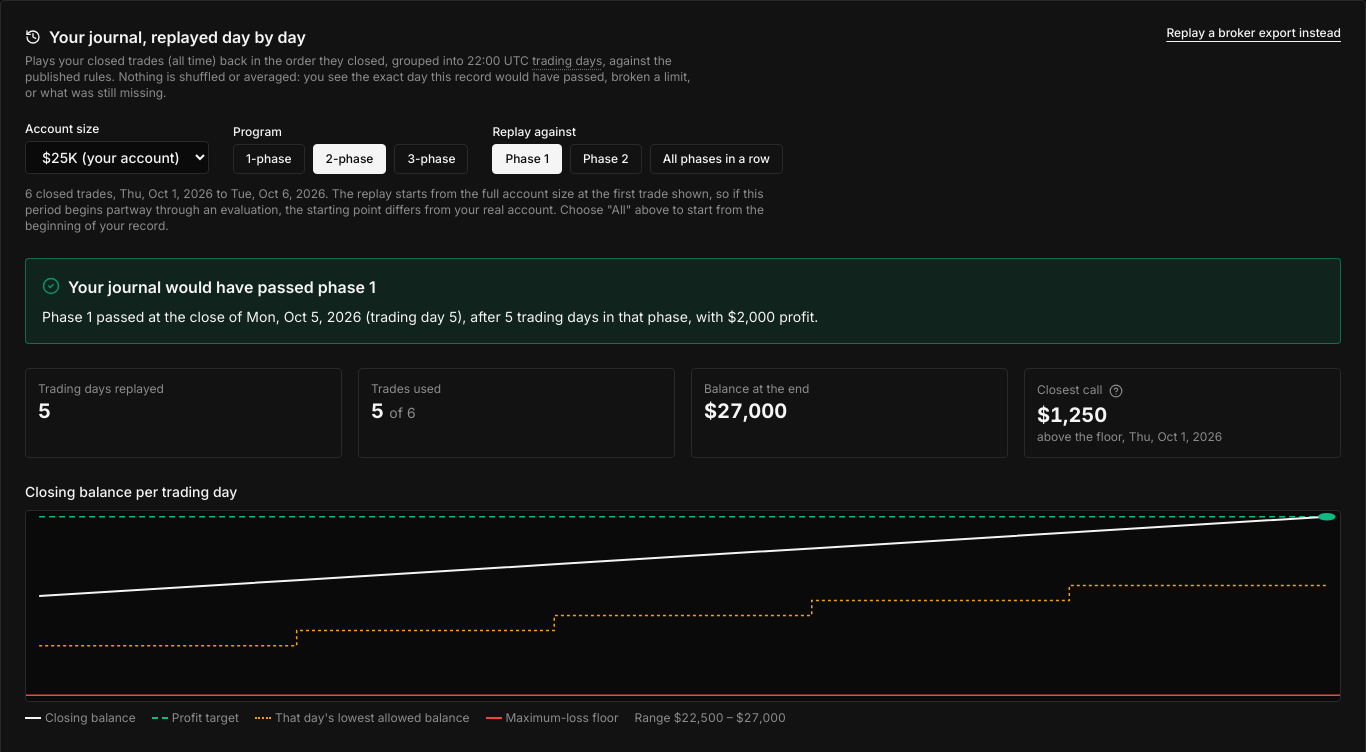
Scenario: JournalReplayCard › runs all phases in a row when asked
Click the button "All phases in a row" at (716, 159), box [650, 144, 783, 174]
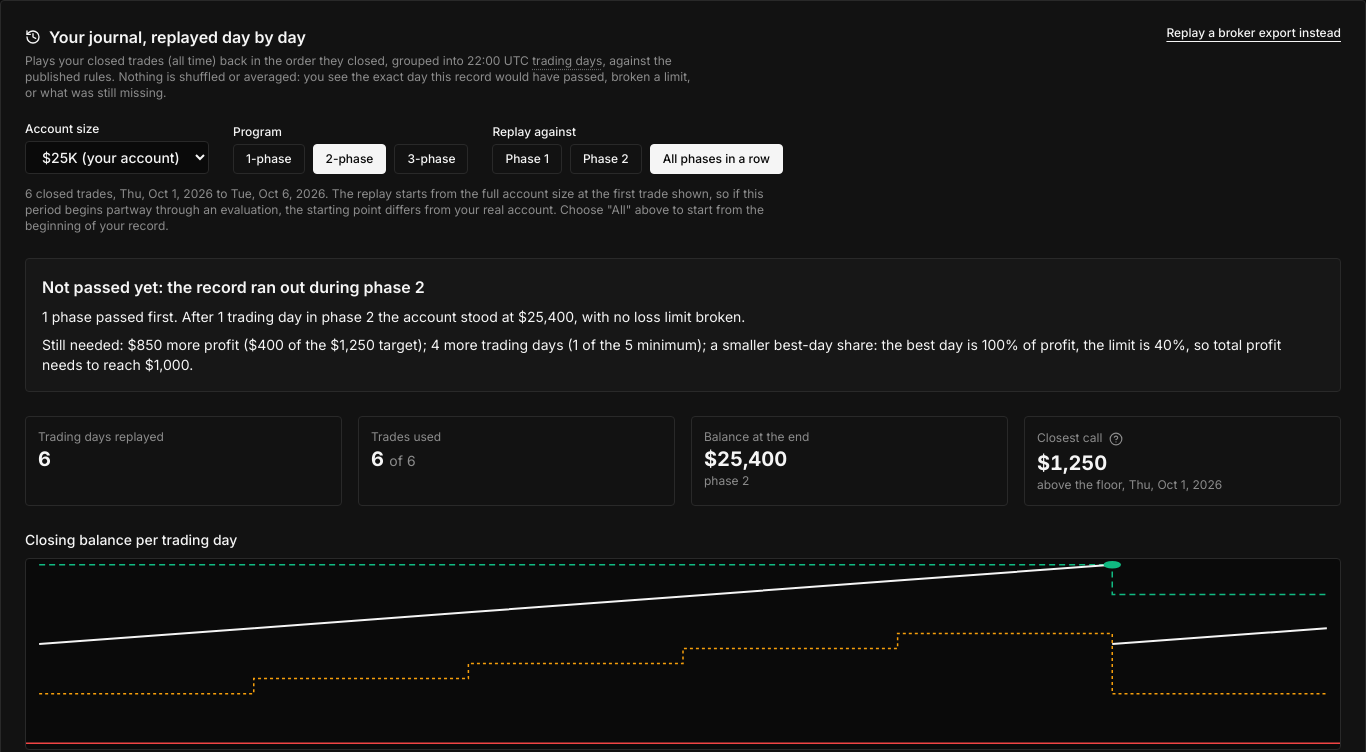
Check: the element with test id "replay-verdict" shows "Not passed yet: the record ran out during phase 2", box [42, 277, 425, 297]
Check: the element with test id "replay-verdict" shows "1 phase passed first", box [42, 308, 745, 325]
